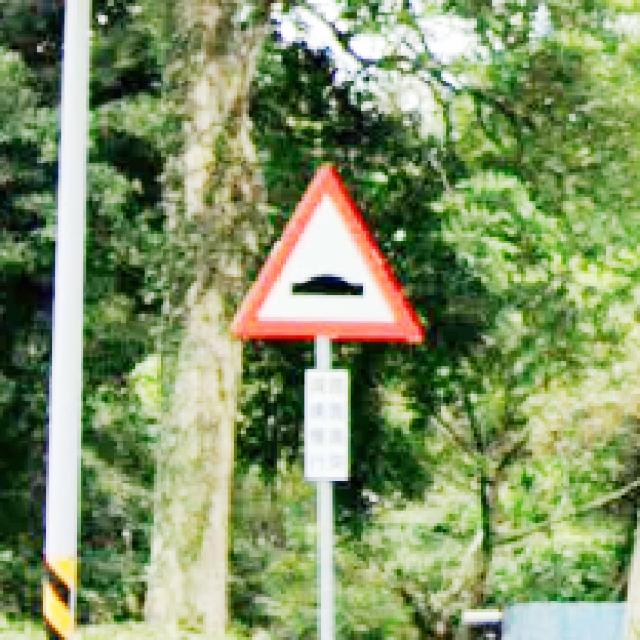hump: (232, 170, 417, 337)
